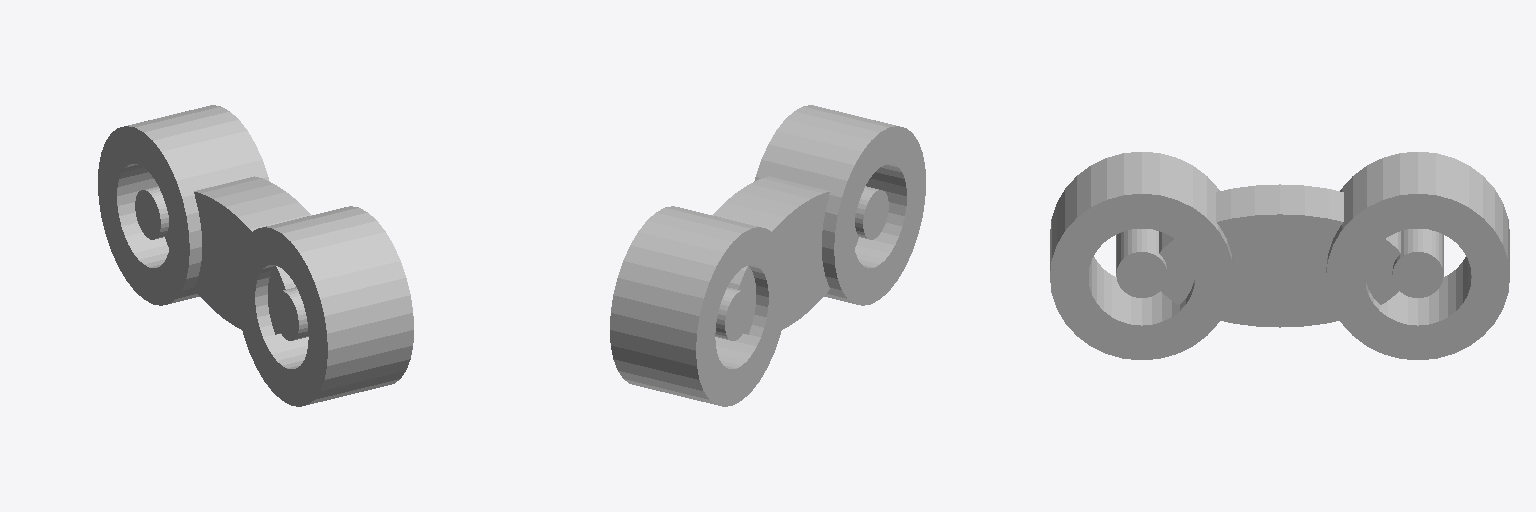
The model's file is bike_glow.obj.
3 renders of one model, left to right at view 1: azimuth 30°, elevation 25°; view 2: azimuth 150°, elevation 25°; view 3: azimuth 270°, elevation 25°, orthographic.
Parts seen in each view (by area): view 1: Cylinder; view 2: Cylinder; view 3: Cylinder.
Boxes of the visible parts, <box> form: Cylinder: <box>98,105,413,406</box>; Cylinder: <box>610,105,925,406</box>; Cylinder: <box>1050,152,1509,359</box>.
Size of the model in its own units: 1.08 by 2 by 5.